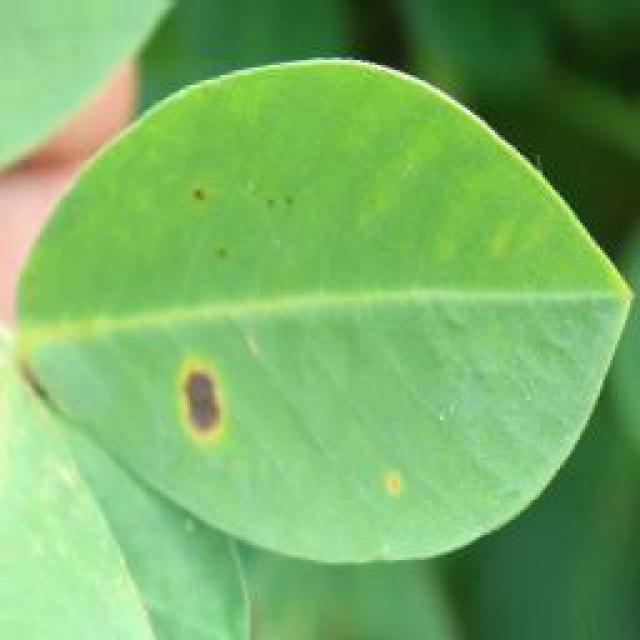Early_leaf_spot: (171, 166, 309, 266), (326, 436, 430, 532), (145, 348, 228, 455)
